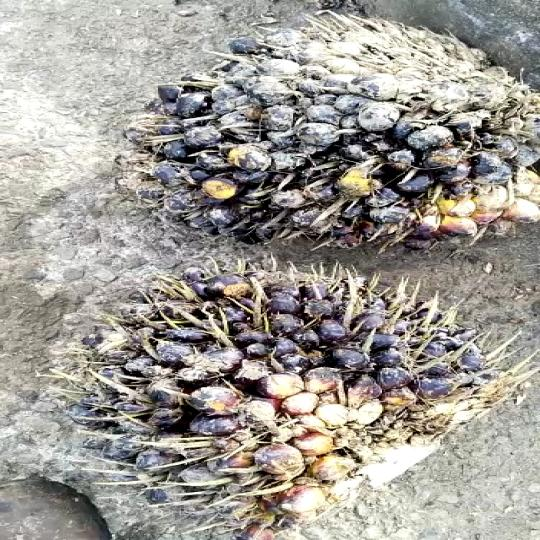mentah: (5, 236, 517, 540), (119, 8, 540, 258)
